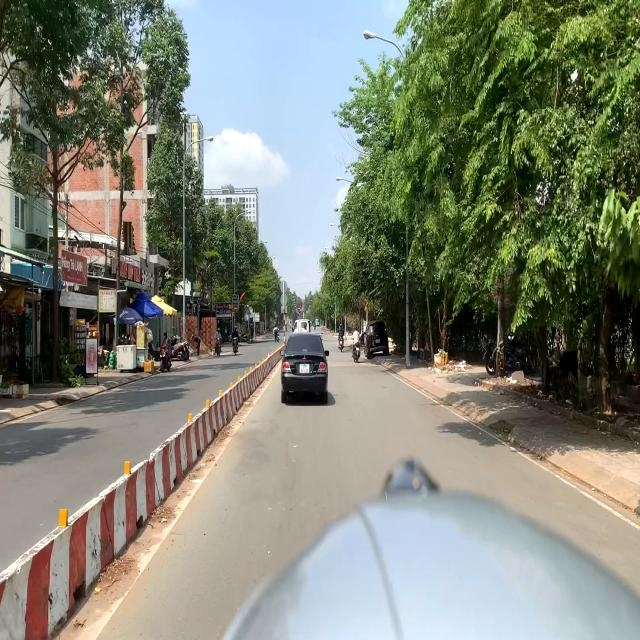bien_cam: (298, 305, 300, 311), (298, 311, 300, 316)
